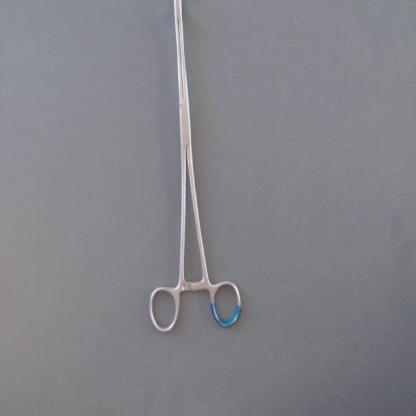Sponge Forceps: (144, 3, 248, 340)
